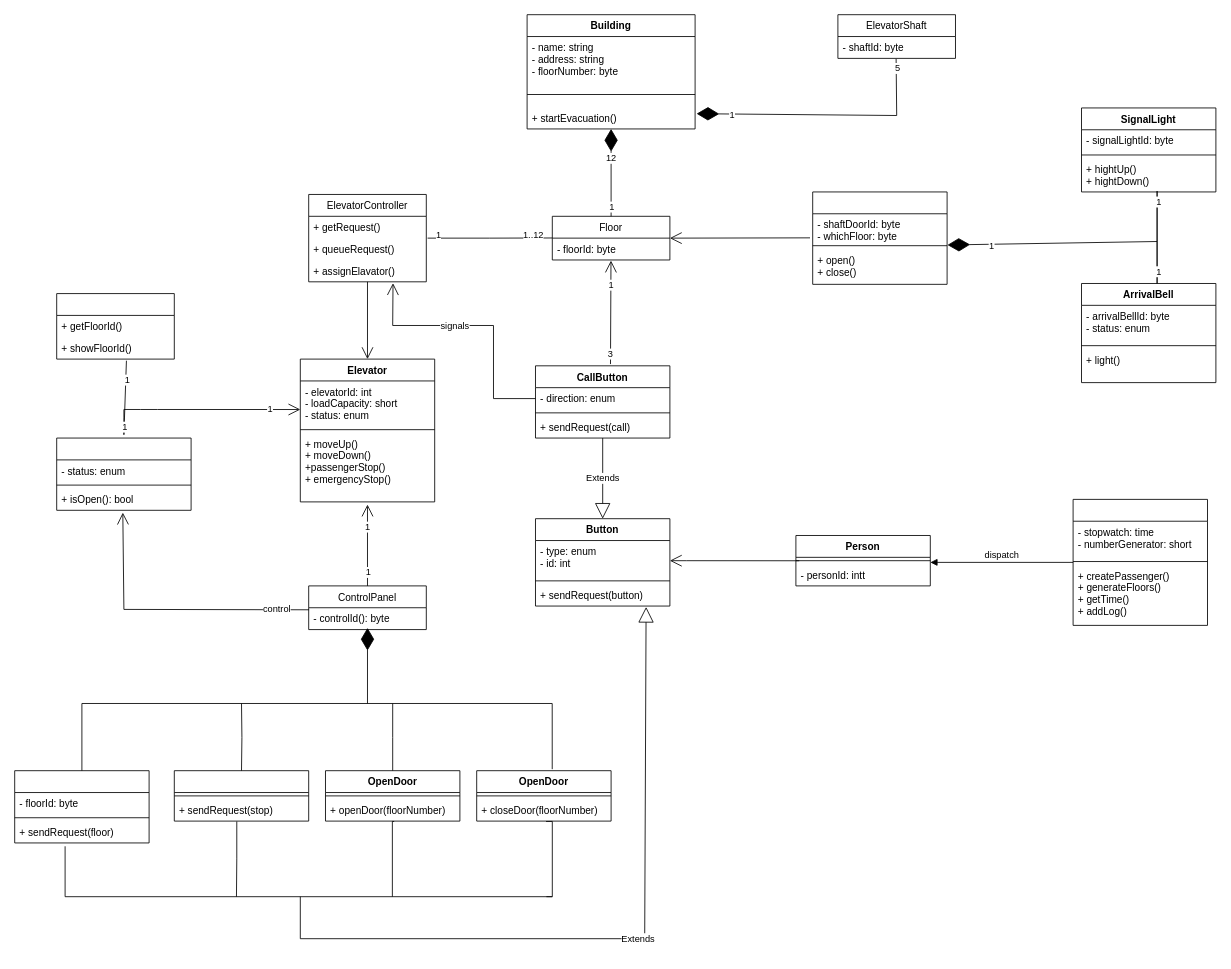
The diagram is 1231 pixels wide and 969 high, and some of its shapes have lost their labels. Here are the shapes that lost their labels. From the top down, the box of each, then its label:
(812, 191, 947, 284): ElevatorShaftDoor
(56, 293, 174, 359): FloorIndicatorLight
(56, 437, 191, 510): ElevatorDoor
(1072, 499, 1208, 625): Simulator
(14, 770, 149, 843): TargetButton
(173, 770, 309, 821): EmergencyButton
